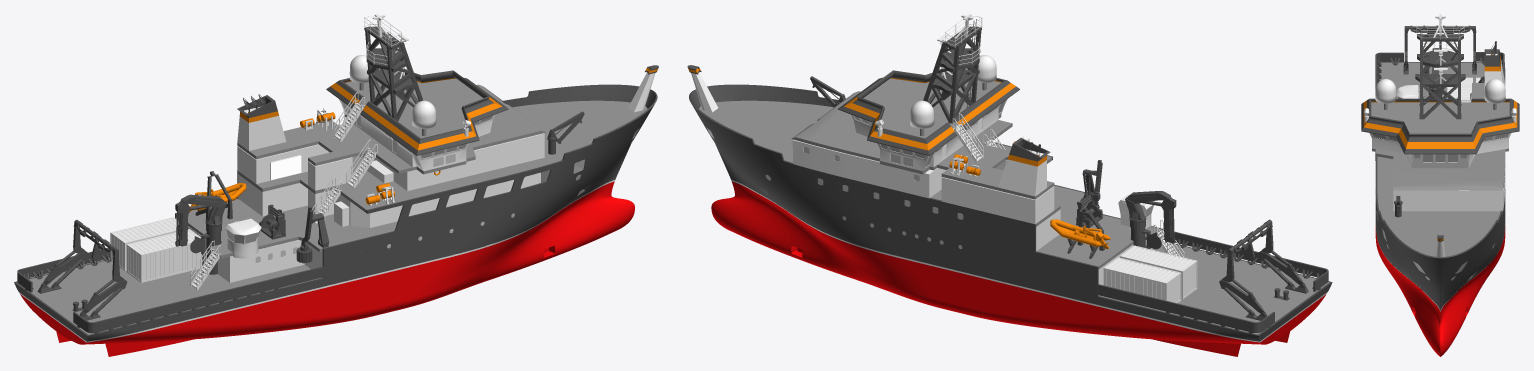
Rendered from opt_rv_taani.glb.
3 views of the same model, side by side, from view 1: azimuth 30°, elevation 25°; view 2: azimuth 150°, elevation 25°; view 3: azimuth 270°, elevation 25° (orthographic). The views are drawn at different scales.
Parts seen in each view (by area): view 1: Deck1 Mid Shell, Deck 0 Front, * Deck 4, Deck 3 rear, * Deck 1 Rear, Deck 0 Rear, Deck 2 rear, Deck 1 front shell, Deck 1 rear shell, Deck 5 walls, Deck 3 front, Deck 5 floor (+17 smaller); view 2: Deck1 Mid Shell, Deck 0 Front, * Deck 4, Deck 1 rear shell, Deck 0 Rear, Deck 3 rear, Deck 1 front shell, * Deck 1 Rear, Deck 5 walls, Deck 3 front, Deck 2 rear, Deck 5 floor (+14 smaller); view 3: * Deck 4, Deck 1 front shell, Deck 5 walls, Deck 3 front, Deck 0 Front, Deck 3 rear, Deck 5 floor, * Deck 1 Rear, Nest base, Nest mid, Deck1 Mid Shell, Nest Top (+12 smaller).
Boxes of the visible parts, x1,y1,x2,y2 form: Deck1 Mid Shell: (366,162,557,277); Deck 0 Front: (374,181,634,315); * Deck 4: (237,84,545,174); Deck 3 rear: (237,120,551,212); * Deck 1 Rear: (17,217,322,334); Deck 0 Rear: (20,275,377,356); Deck 2 rear: (176,174,396,258); Deck 1 front shell: (502,84,657,219); Deck 1 rear shell: (14,170,367,342); Deck 5 walls: (326,70,508,155); Deck 3 front: (512,100,647,163); Deck 5 floor: (345,78,482,138); Deck1 Mid Shell: (788,142,1052,277); Deck 0 Front: (711,181,971,315); * Deck 4: (791,91,1054,199); Deck 1 rear shell: (979,184,1332,342); Deck 0 Rear: (968,275,1326,356); Deck 3 rear: (792,139,1060,226); Deck 1 front shell: (689,84,838,219); * Deck 1 Rear: (1098,240,1329,334); Deck 5 walls: (838,70,1019,155); Deck 3 front: (699,100,833,162); Deck 2 rear: (1036,185,1161,269); Deck 5 floor: (863,78,1000,138); * Deck 4: (1369,41,1511,190); Deck 1 front shell: (1378,210,1502,311); Deck 5 walls: (1361,98,1519,154); Deck 3 front: (1380,211,1500,256); Deck 0 Front: (1375,226,1505,356); Deck 3 rear: (1377,156,1505,211); Deck 5 floor: (1371,102,1509,133); * Deck 1 Rear: (1379,62,1484,98); Nest base: (1415,74,1465,119); Nest mid: (1417,50,1463,84); Deck1 Mid Shell: (1375,156,1505,270); Nest Top: (1417,33,1463,62).
Size of what is drawn, in the model's own units: 63.84 by 27.54 by 16.46.
